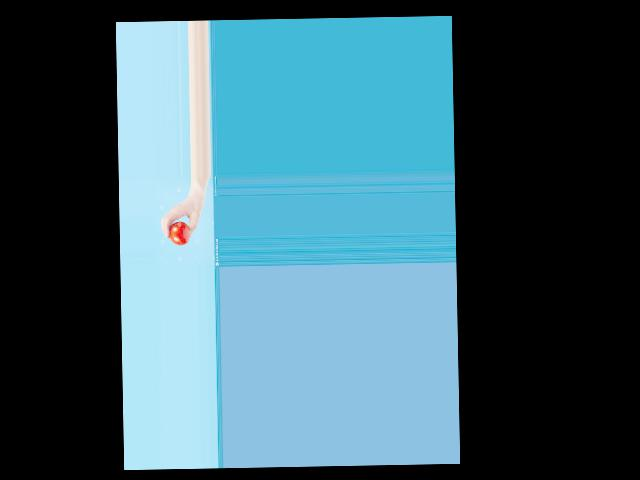tomato: (168, 221, 190, 245)
